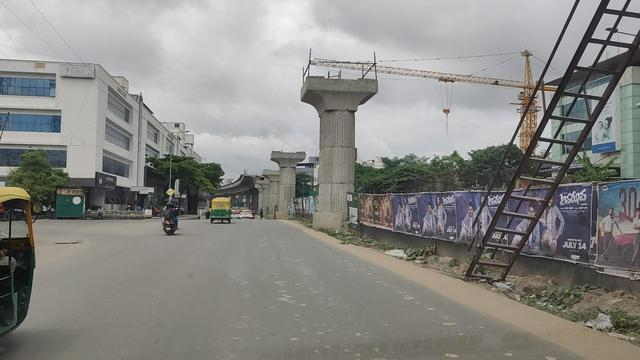LMV: (163, 203, 179, 234), (211, 197, 229, 224)
RoadDamages: (53, 236, 83, 249)
